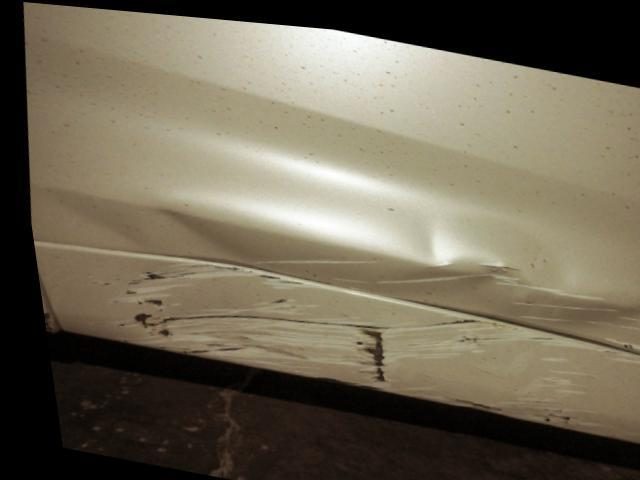dent: (399, 198, 570, 285)
scratch: (96, 248, 640, 429)
